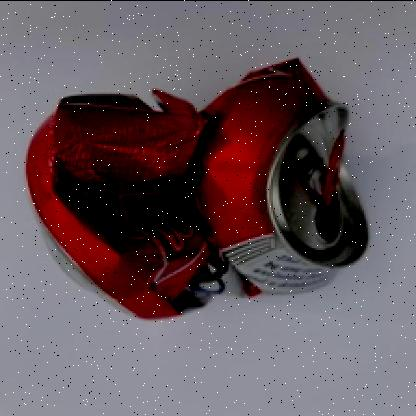Can: (12, 46, 380, 339)
